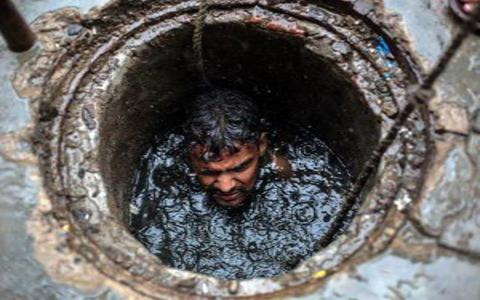open manhole: (37, 1, 448, 292)
